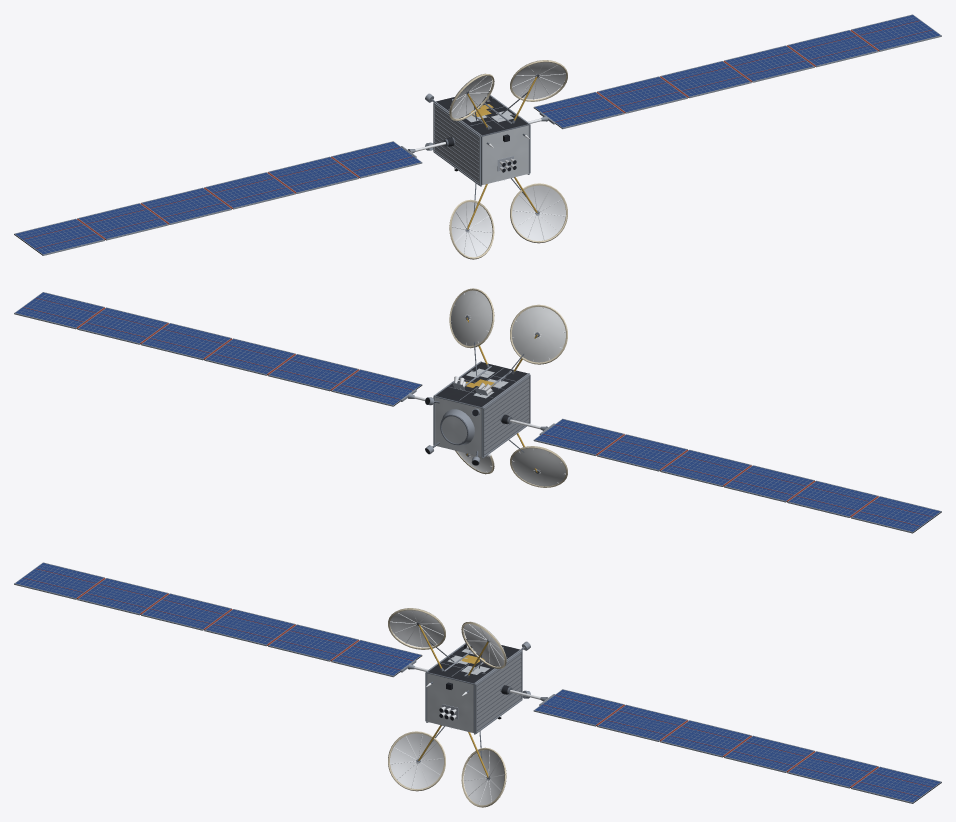
Rendered from bus-boeing-702sp.glb.
3 views of the same model, one above another, from view 1: azimuth 30°, elevation 25°; view 2: azimuth 150°, elevation 25°; view 3: azimuth 330°, elevation 25° (orthographic).
Visible parts, largest first — view 1: body, solar-panel, foil; view 2: body, solar-panel, foil; view 3: body, solar-panel, foil.
Boxes of the visible parts, <box> form: body: <box>14,14,941,257</box>; solar-panel: <box>15,15,940,254</box>; foil: <box>436,60,567,259</box>; body: <box>14,290,941,533</box>; solar-panel: <box>15,292,940,531</box>; foil: <box>435,288,567,487</box>; body: <box>14,562,941,805</box>; solar-panel: <box>15,563,940,802</box>; foil: <box>388,608,519,807</box>.
Size of the model in its own units: 39.94 by 7.74 by 4.76.
